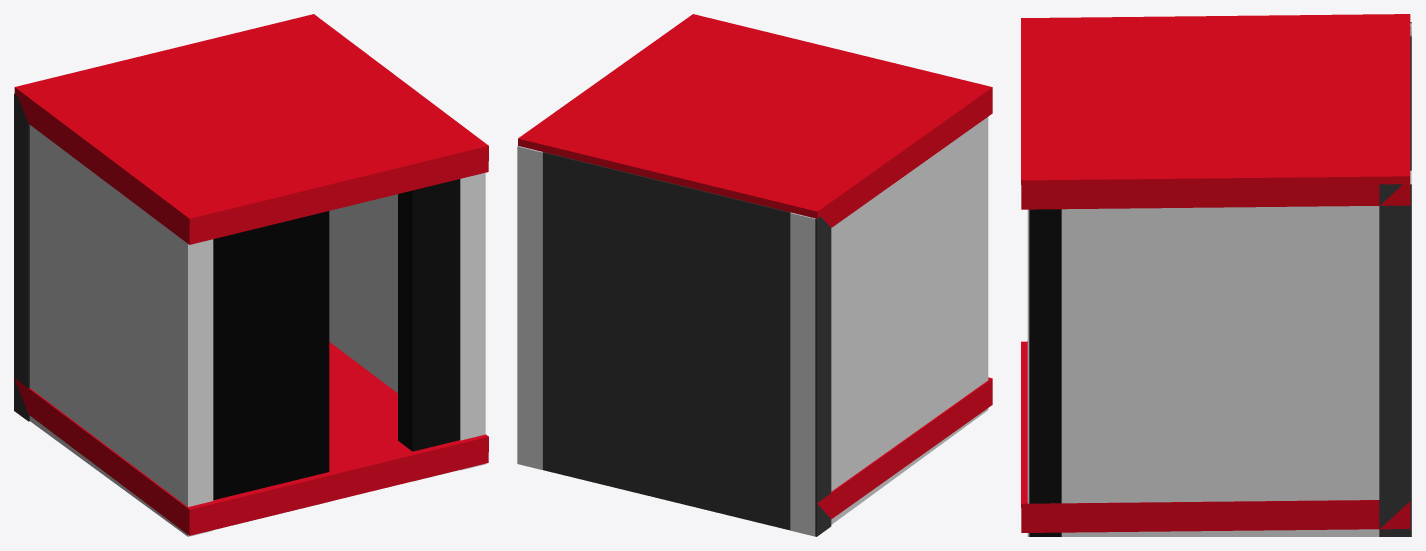
3 views of the same model, side by side, from view 1: azimuth 30°, elevation 25°; view 2: azimuth 150°, elevation 25°; view 3: azimuth 270°, elevation 25° (orthographic). The views are drawn at different scales.
Parts seen in each view (by area): view 1: Cube.005, Cube, Cube.003, Cube.006, Cube.001, Cube.004, Cube.002; view 2: Cube.002, Cube.005, Cube, Cube.001, Cube.006; view 3: Cube.001, Cube.005, Cube.006, Cube.002, Cube.004.
Boxes of the visible parts, box(x1,y1,x2,y2) form: Cube.005: box(14, 14, 488, 244); Cube: box(30, 125, 213, 536); Cube.003: box(213, 211, 329, 500); Cube.006: box(14, 342, 488, 535); Cube.001: box(329, 172, 485, 470); Cube.004: box(398, 179, 459, 478); Cube.002: box(14, 93, 29, 421); Cube.002: box(542, 152, 831, 536); Cube.005: box(518, 14, 992, 227); Cube: box(790, 117, 988, 536); Cube.001: box(517, 146, 542, 469); Cube.006: box(817, 377, 992, 518); Cube.001: box(1027, 170, 1411, 536); Cube.005: box(1021, 14, 1410, 209); Cube.006: box(1021, 341, 1410, 532); Cube.002: box(1379, 22, 1411, 536); Cube.004: box(1029, 209, 1061, 536).
Bounding box in the file's own units: 6.62 × 6.86 × 6.73.
